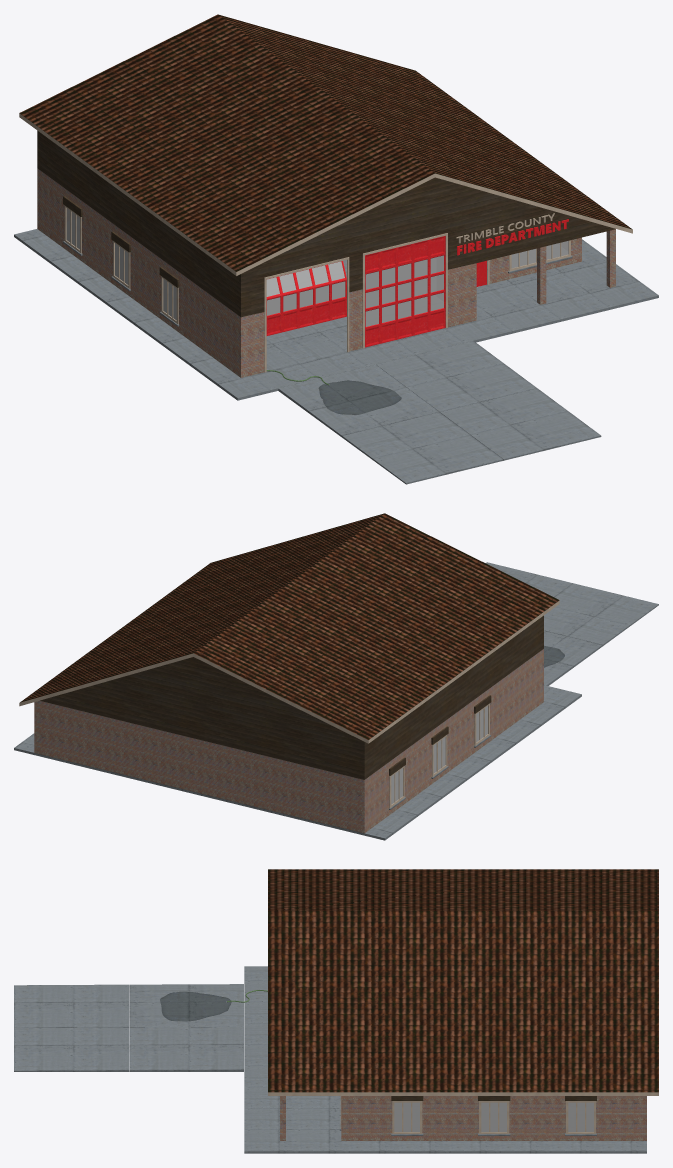
File: estacion_bomberos_editada.glb
3 renders of one model, top to bottom at view 1: azimuth 30°, elevation 25°; view 2: azimuth 150°, elevation 25°; view 3: azimuth 270°, elevation 25°, orthographic. The views are drawn at different scales.
Visible parts, largest first — view 1: Material2.009, Material2, Material2.003, Material2.008, Material2.011, Material2.002, Material2.005, Material3.001, Material2.007, Material2.001; view 2: Material2.009, Material2.008, Material2.003, Material2, Material2.002, Material2.007; view 3: Material2.009, Material2, Material2.008, Material2.002, Material2.007, Material3.001, Material2.003.
Part boxes in pixels (x1,y1,x2,y2): Material2.009: (19,14,632,271); Material2: (14,229,658,484); Material2.003: (37,130,615,317); Material2.008: (37,168,615,377); Material2.011: (365,236,445,347); Material2.002: (19,113,632,372); Material2.005: (266,261,346,335); Material3.001: (318,380,401,415); Material2.007: (66,208,568,320); Material2.001: (457,219,568,255); Material2.009: (20,513,559,739); Material2.008: (34,649,543,833); Material2.003: (40,615,543,779); Material2: (14,562,658,840); Material2.002: (19,600,559,807); Material2.007: (391,706,487,804); Material2.009: (268,869,658,1092); Material2: (14,966,646,1153); Material2.008: (280,1096,646,1140); Material2.002: (268,1092,658,1133); Material2.007: (394,1102,593,1131); Material3.001: (160,991,231,1021); Material2.003: (391,1096,596,1100).
Size of the model in its own units: 872 by 329 by 1285.
14 materials, 9 textured.
